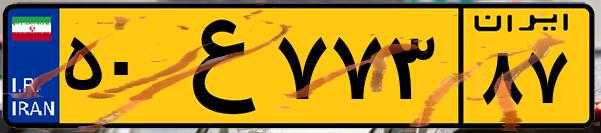0: (110, 28, 158, 98)
3: (385, 28, 445, 110)
5: (57, 26, 110, 100)
7: (270, 28, 330, 110), (330, 28, 385, 110), (525, 38, 570, 115)
8: (475, 38, 525, 113)
ع: (158, 12, 270, 120)
